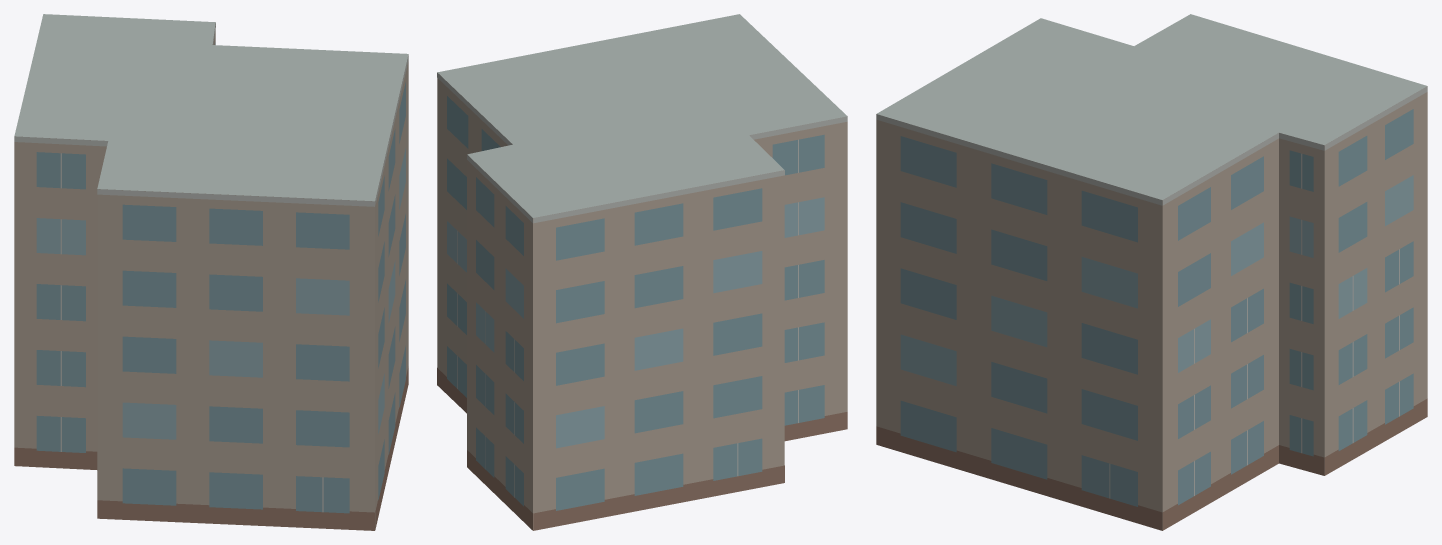
The model's file is survey-upis-32837350.glb.
The picture shows the model from 3 angles, left to right: view 1: azimuth 30°, elevation 25°; view 2: azimuth 150°, elevation 25°; view 3: azimuth 270°, elevation 25°; orthographic projection. The views are drawn at different scales.
Parts seen in each view (by area): view 1: survey-upis-32837350.tmp; view 2: survey-upis-32837350.tmp; view 3: survey-upis-32837350.tmp.
Boxes of the visible parts, x1,y1,x2,y2 form: survey-upis-32837350.tmp: (14,14,408,530); survey-upis-32837350.tmp: (437,14,847,530); survey-upis-32837350.tmp: (876,14,1427,530).
Size of the model in its own units: 17.33 by 14.35 by 21.69.
